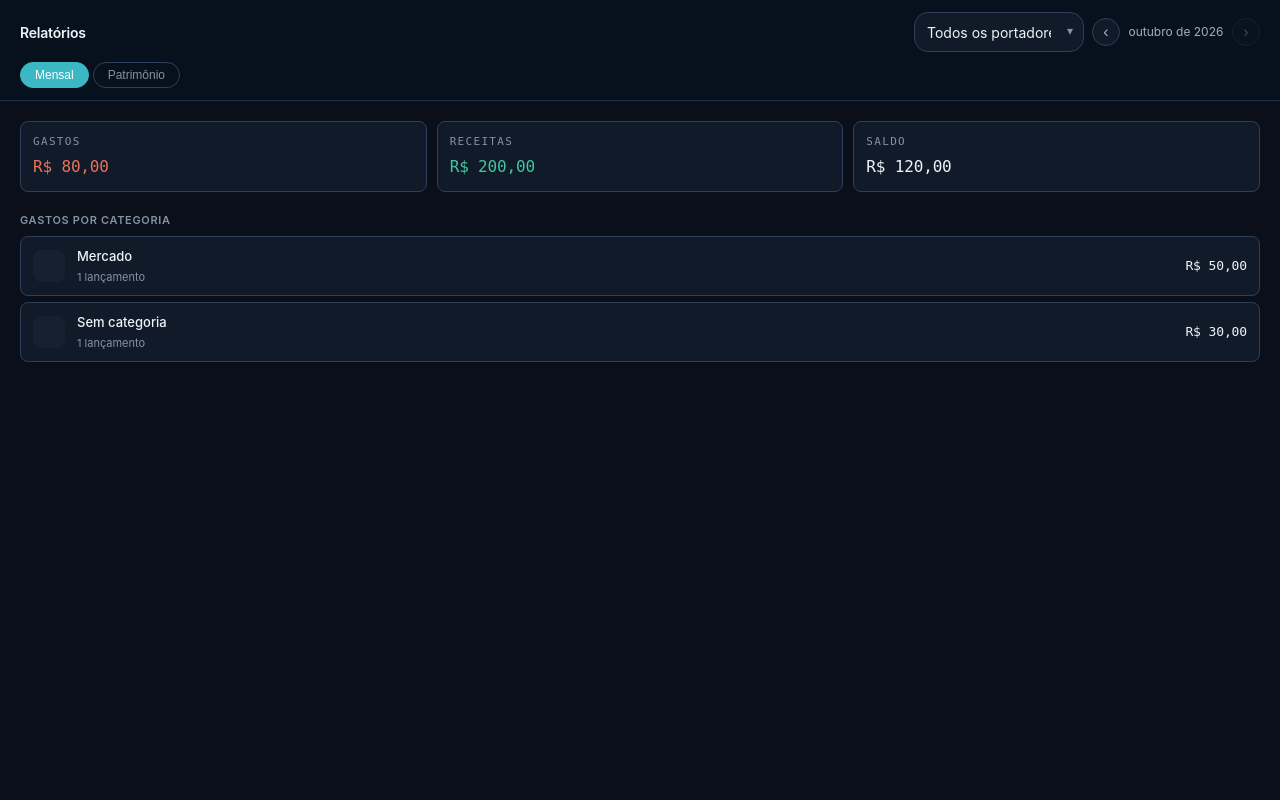
Test case: relatorios.vue › mostra "—" no patrimônio, não R$ 0,00, quando o dado não chegou
This screenshot has width=1280, height=800.
What coordinates should you click on to do the following:
click the button with class "tab-btn" showing "Patrimônio"
I would click on:
 (136, 75)
Its box is [93,62,180,88].
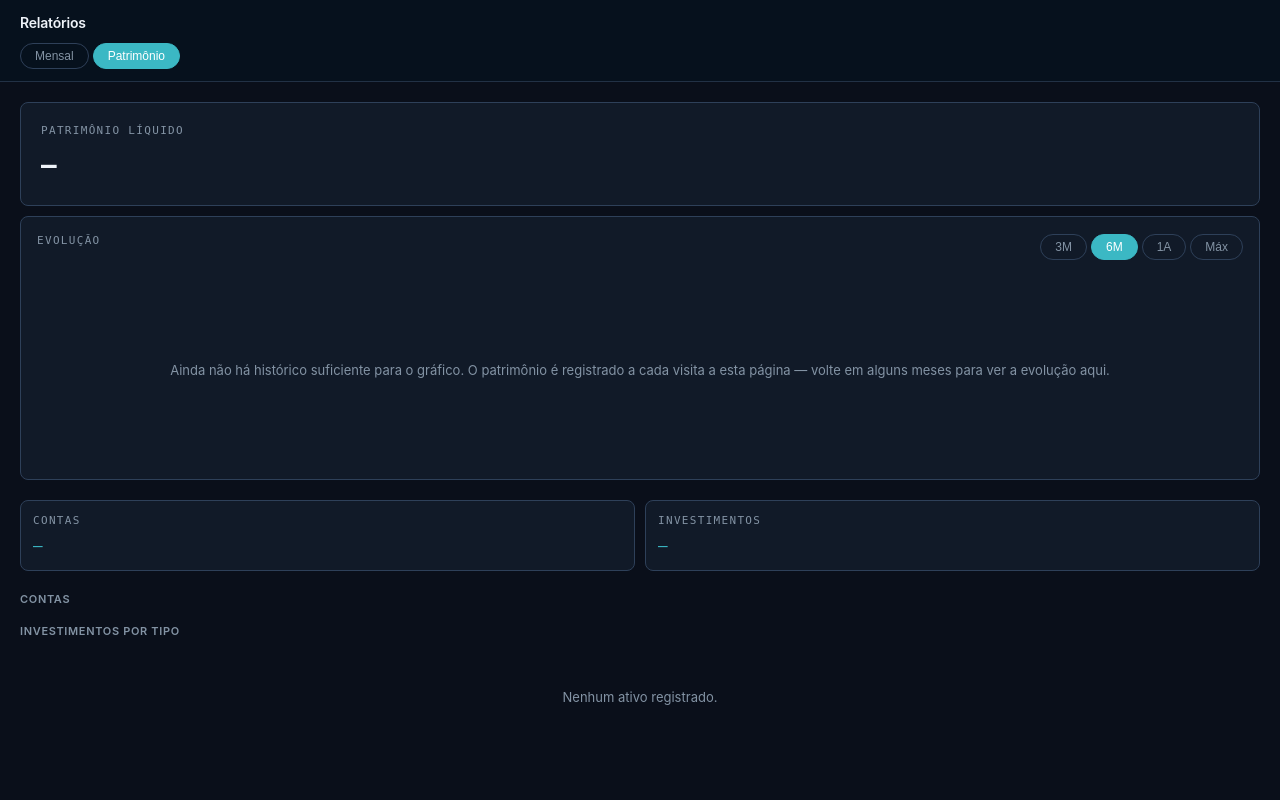
Check: the element with class "nw-hero" shows "—", box [41,150,56,180]
Check: the text with class "nw-hero" no longer shows "R$"
